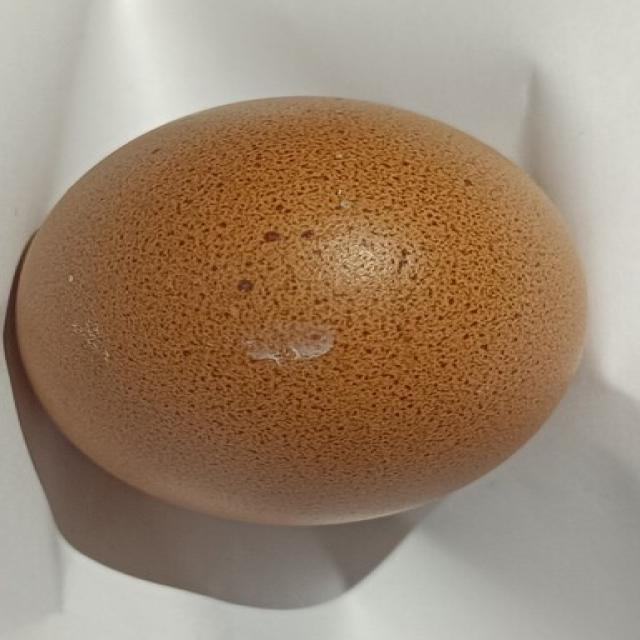unfresh: (8, 91, 590, 519)
